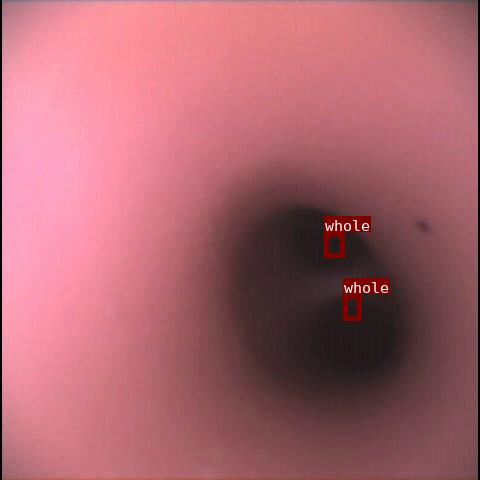whole: (324, 232, 344, 257), (343, 294, 361, 320)
